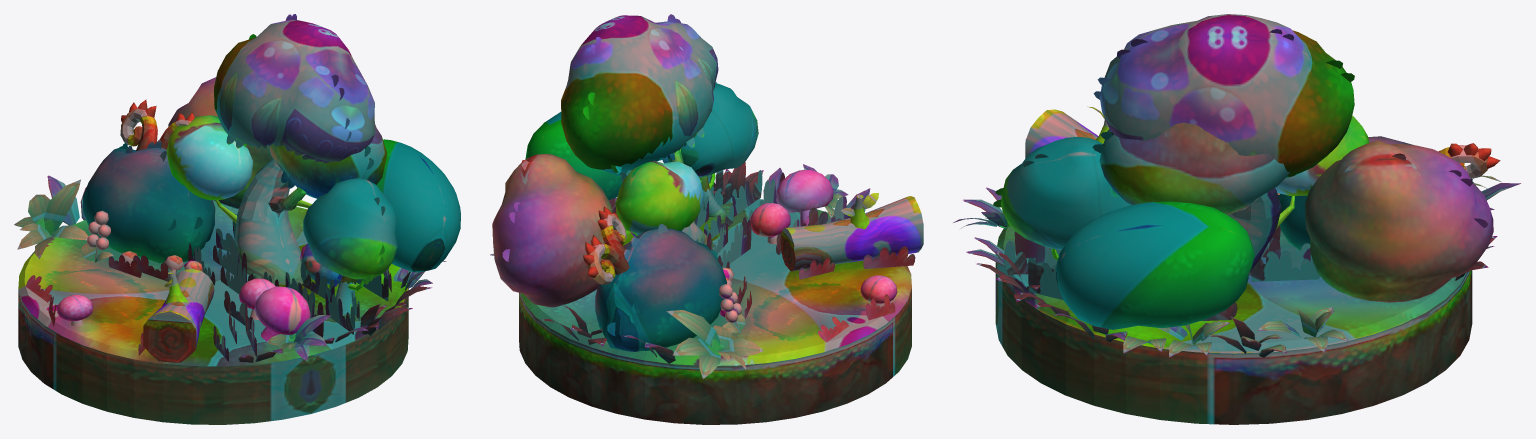
File: scenes_level_demo01.FBX
3 views of the same model, side by side, from view 1: azimuth 30°, elevation 25°; view 2: azimuth 150°, elevation 25°; view 3: azimuth 270°, elevation 25° (orthographic). The views are drawn at different scales.
Visible parts, largest first — view 1: scenes_level_demo01; view 2: scenes_level_demo01; view 3: scenes_level_demo01.
Part boxes in pixels (box(x1,y1,x2,y2)): scenes_level_demo01: box(14, 14, 460, 424); scenes_level_demo01: box(490, 14, 923, 424); scenes_level_demo01: box(953, 14, 1520, 424).
Bounding box in the file's own units: 513 × 387 × 559.
